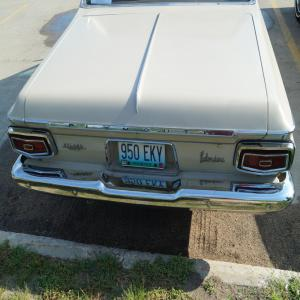Vehicle-registration-plate: (119, 142, 167, 172)
